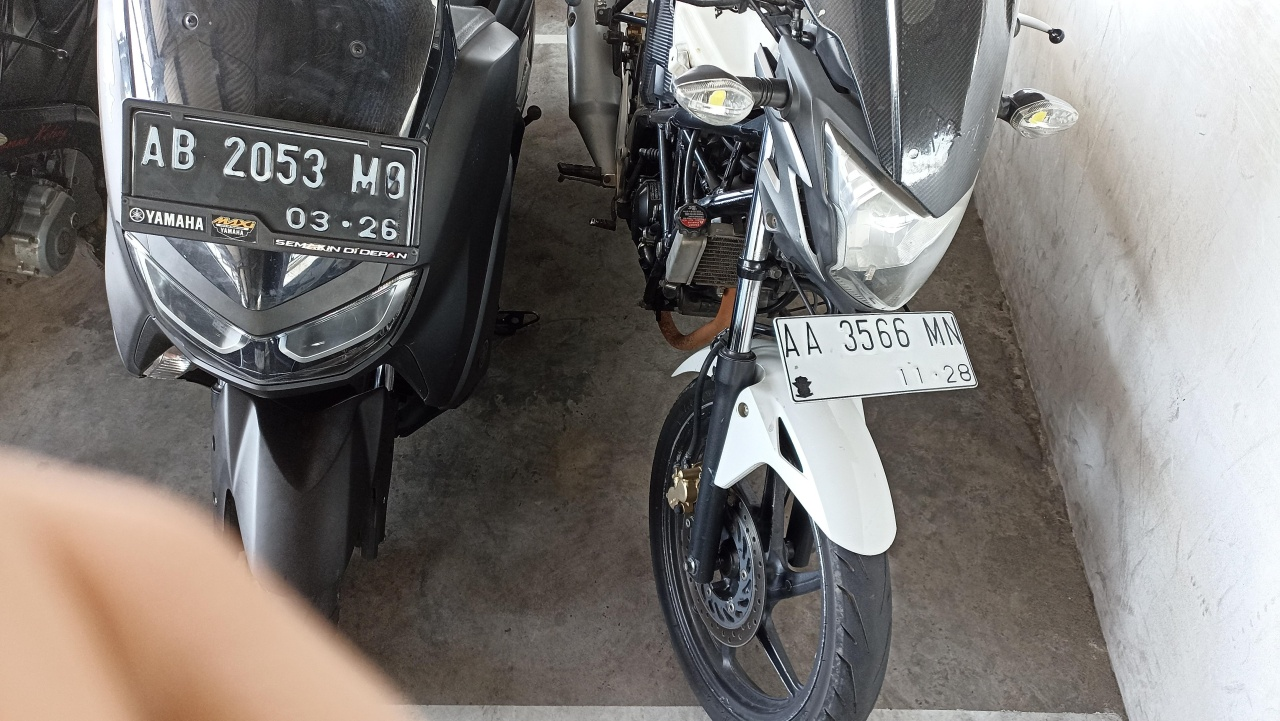plate: (124, 99, 425, 264), (773, 309, 982, 404)
